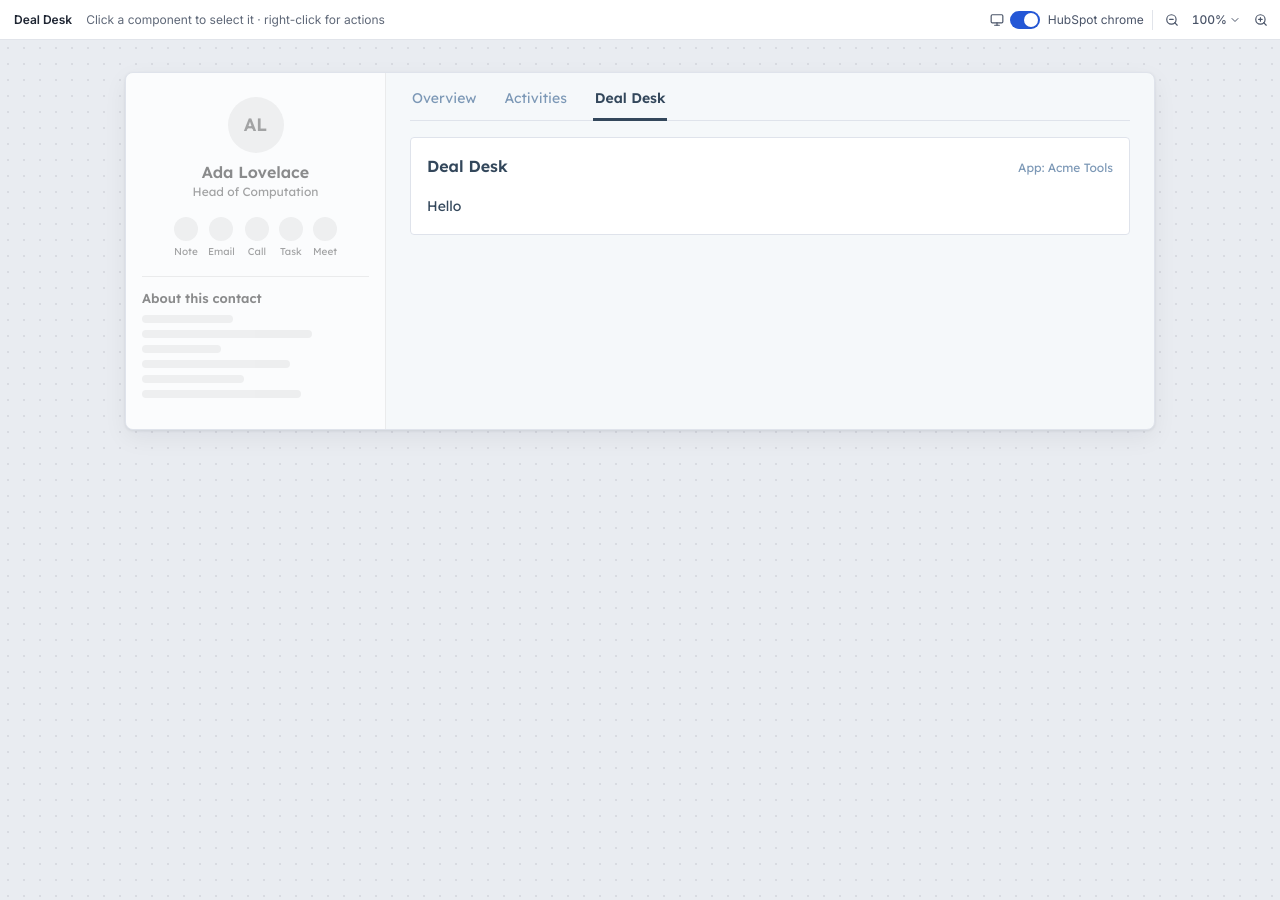
Test: Canvas frame › toggles the HubSpot chrome
The image size is (1280, 900).
What coordinates should you click on to do the following:
click the checkbox labelled "HubSpot chrome"
I would click on:
 (1077, 20)
Its box is [1010, 10, 1144, 28].
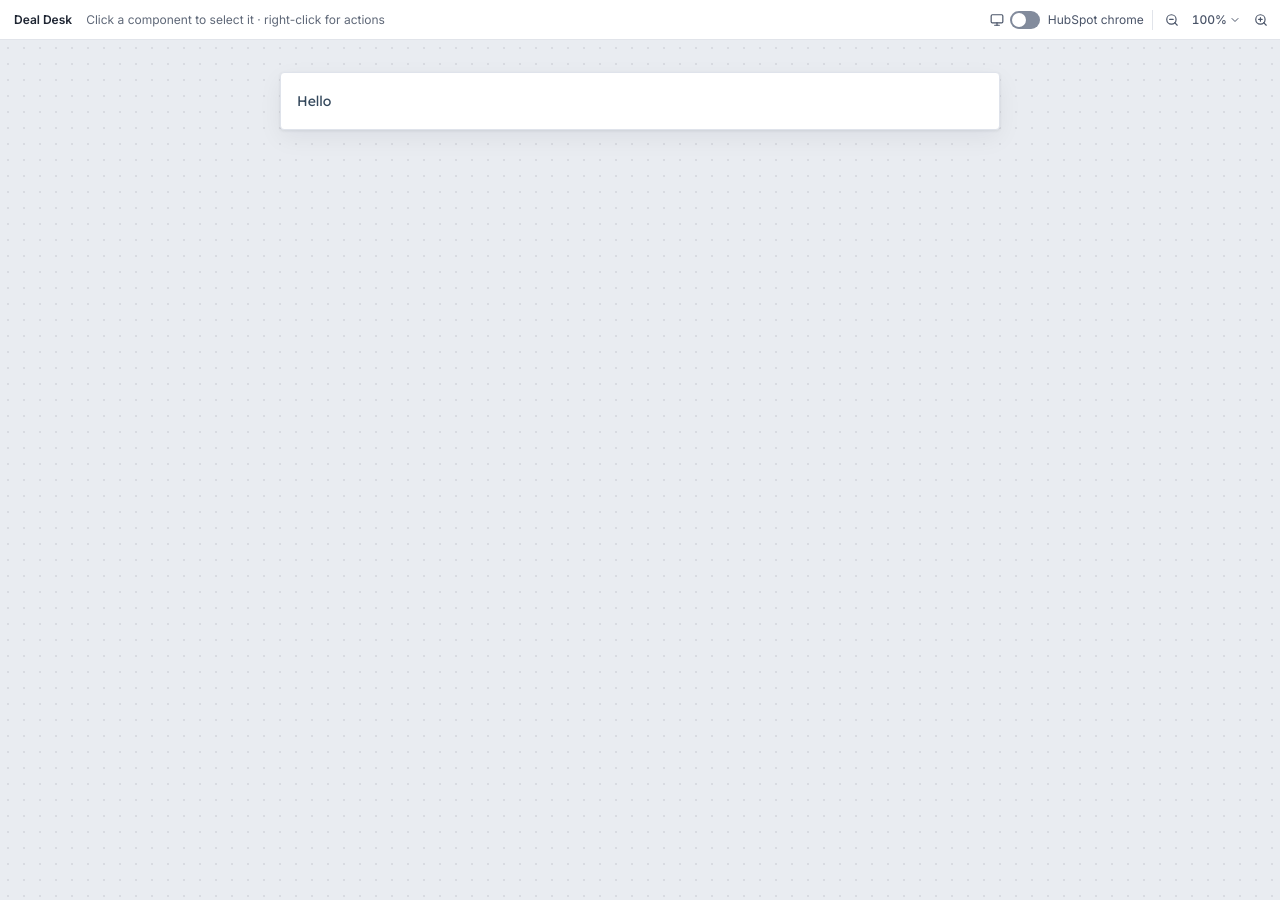
Expected: the text "Hello" is shown, [297, 92, 331, 110]
Expected: the text "Overview" is gone
Expected: the text "App: Acme Tools" is gone
What coordinates should you click on to do the following:
click the checkbox labelled "HubSpot chrome"
I would click on:
 (1077, 20)
Its box is [1010, 10, 1144, 28].
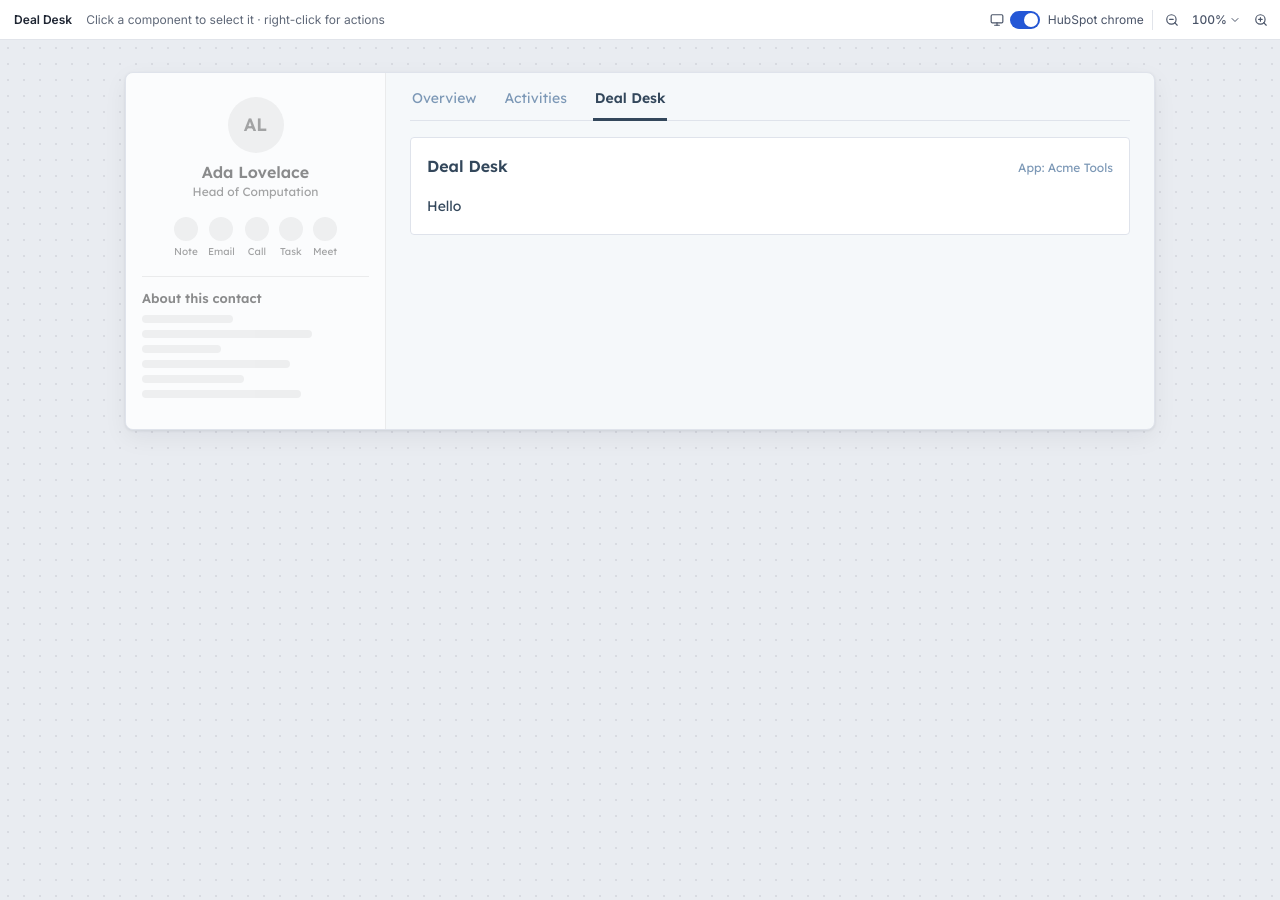
Expected: the text "Overview" is shown, [412, 89, 476, 107]
